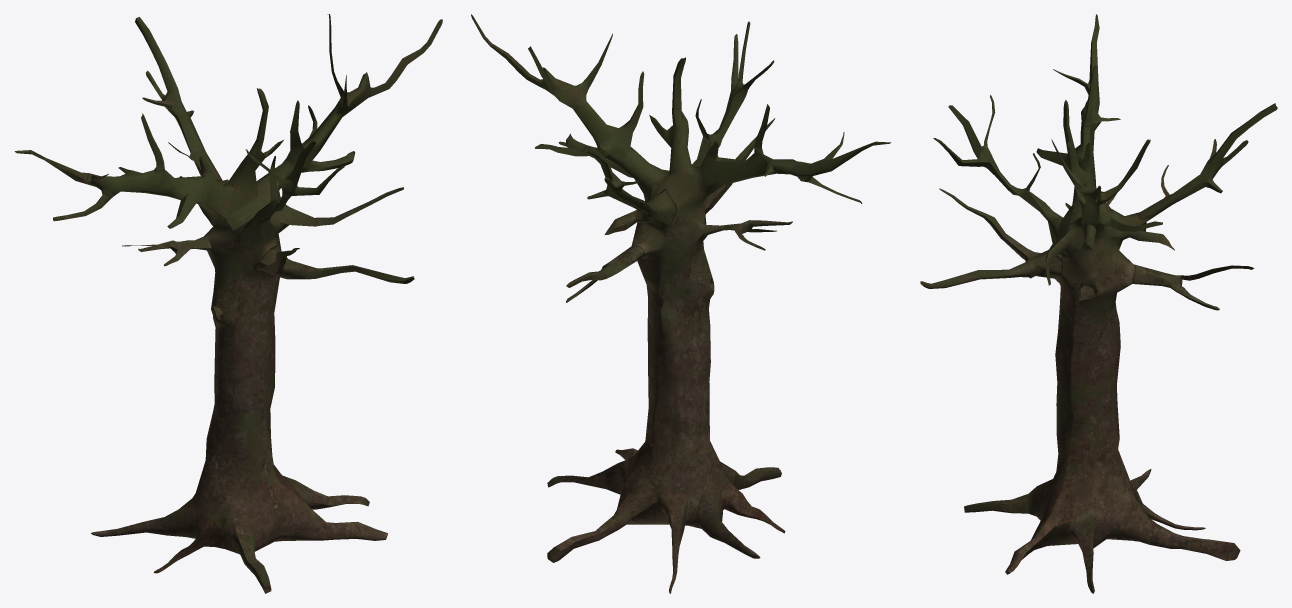
File: deadtree.glb
3 views of the same model, side by side, from view 1: azimuth 30°, elevation 25°; view 2: azimuth 150°, elevation 25°; view 3: azimuth 270°, elevation 25° (orthographic). The views are drawn at different scales.
Parts seen in each view (by area): view 1: Tree_Tree_0; view 2: Tree_Tree_0; view 3: Tree_Tree_0.
Boxes of the visible parts, bbox=[...] form: Tree_Tree_0: bbox=[14, 14, 442, 593]; Tree_Tree_0: bbox=[471, 14, 891, 593]; Tree_Tree_0: bbox=[920, 14, 1277, 593].
Bounding box in the file's own units: 0.9019 × 0.9938 × 0.6859.
Materials: 1 (1 with a texture image).
